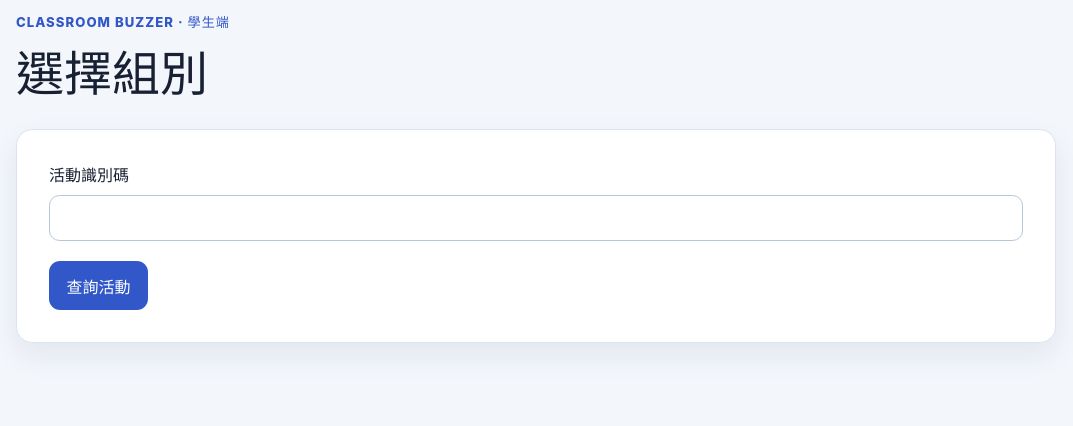
Scenario: 老師 Guided Notes 匯入介面 › 學生查詢活動、選擇組別並建立 session
This screenshot has width=1073, height=426.
In the field labelled "活動識別碼": (536, 218) top-left (49, 195), bottom-right (1023, 241), type "a1"
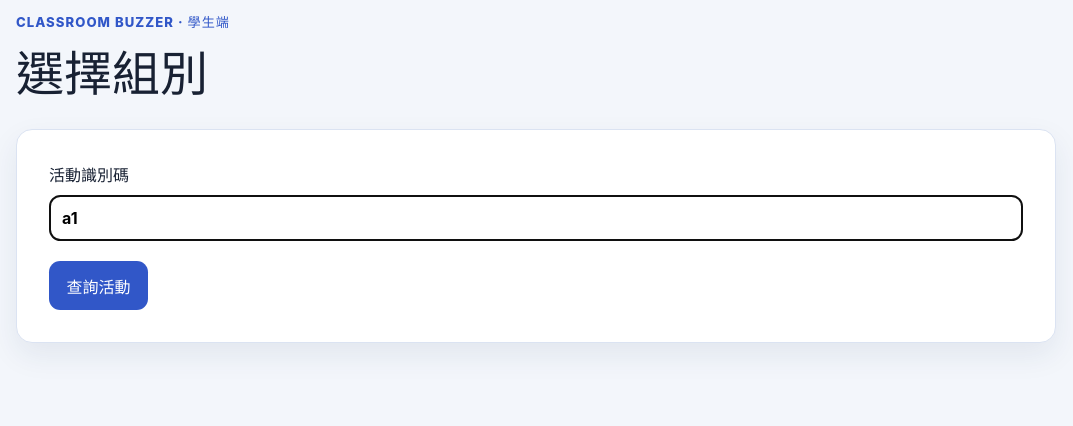
Click the button "查詢活動": (99, 286) top-left (49, 261), bottom-right (148, 310)
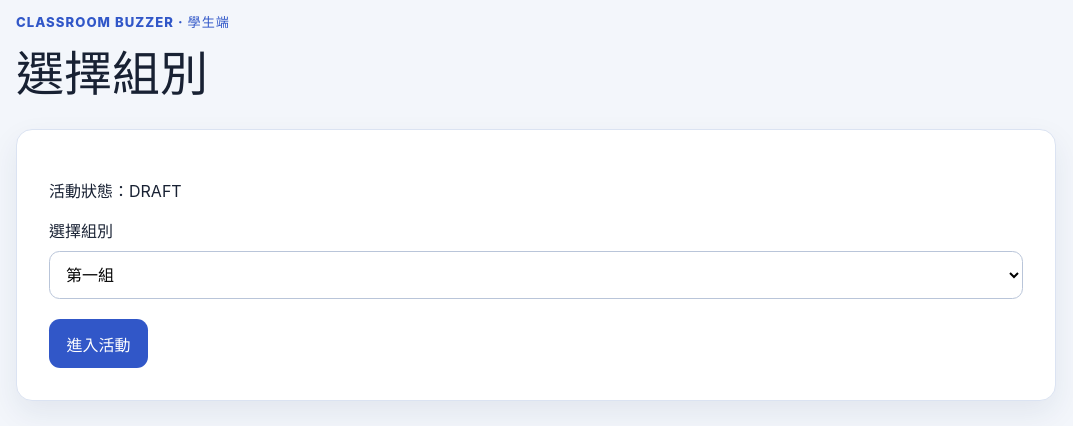
Select "第二組" in the dropdown labelled "選擇組別": (536, 275) top-left (49, 251), bottom-right (1023, 299)
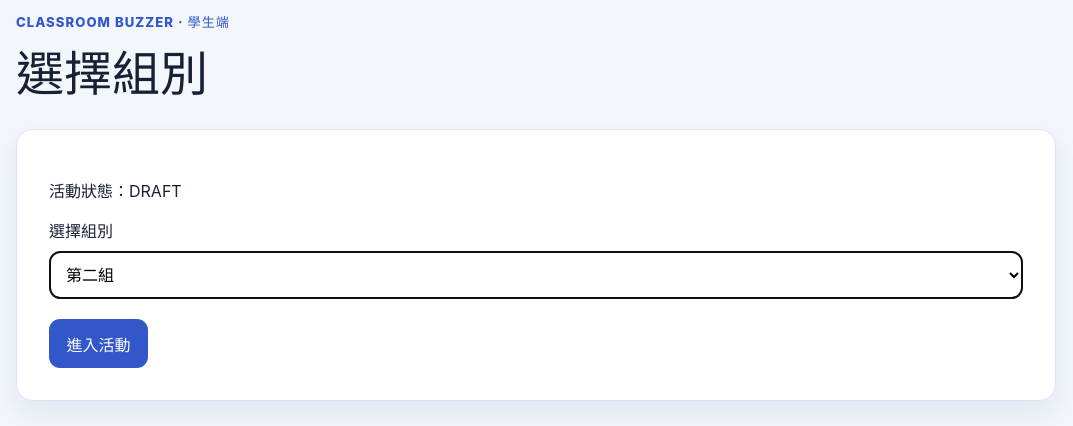
Click the button "進入活動": (99, 344) top-left (49, 319), bottom-right (148, 368)
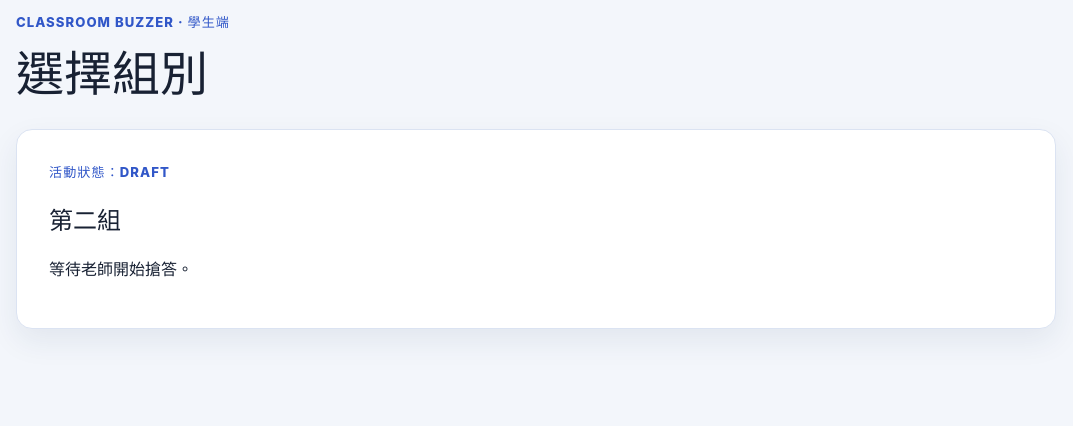
Expected: the text "等待老師開始搶答。" is shown, top-left (49, 259), bottom-right (193, 279)
Expected: the heading "第二組" is shown, top-left (49, 206), bottom-right (121, 235)
